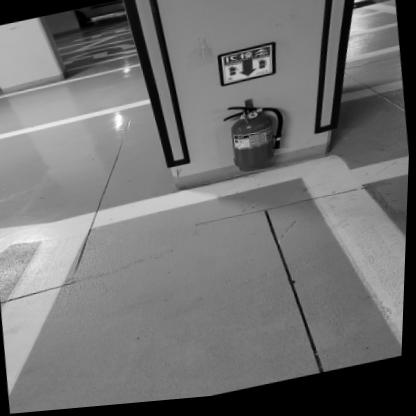FE: (225, 98, 289, 178)
